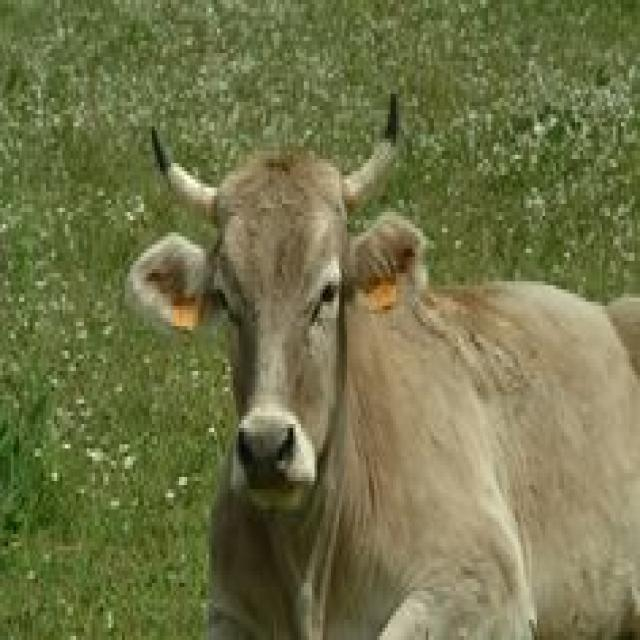Herbivorous: (125, 98, 640, 640)
